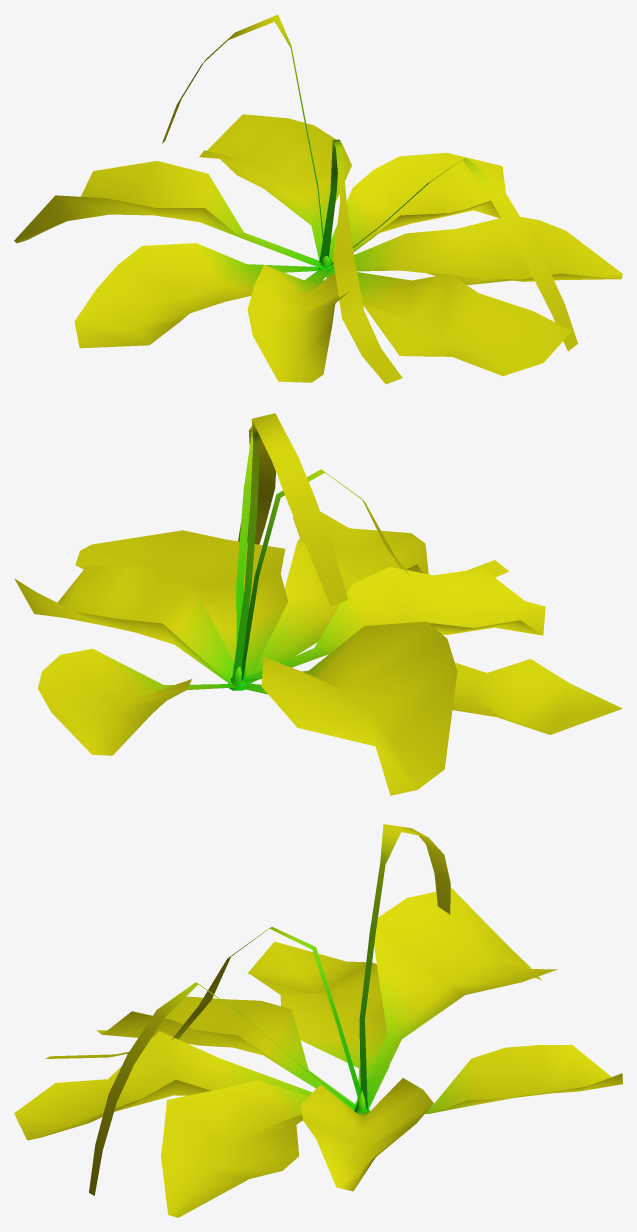
File: Broadleaf Plantain_LOD0_Var4_sfhjc.fbx
3 views of the same model, one above another, from view 1: azimuth 30°, elevation 25°; view 2: azimuth 150°, elevation 25°; view 3: azimuth 270°, elevation 25° (orthographic). The views are drawn at different scales.
Visible parts, largest first — view 1: _4a71_Var4_LOD0; view 2: _4a71_Var4_LOD0; view 3: _4a71_Var4_LOD0.
Part boxes in pixels (box(x1,y1,x2,y2)): _4a71_Var4_LOD0: box(14, 14, 622, 384); _4a71_Var4_LOD0: box(14, 413, 622, 795); _4a71_Var4_LOD0: box(14, 824, 622, 1217).
Size of the model in its own units: 19.38 by 9.94 by 19.11.
